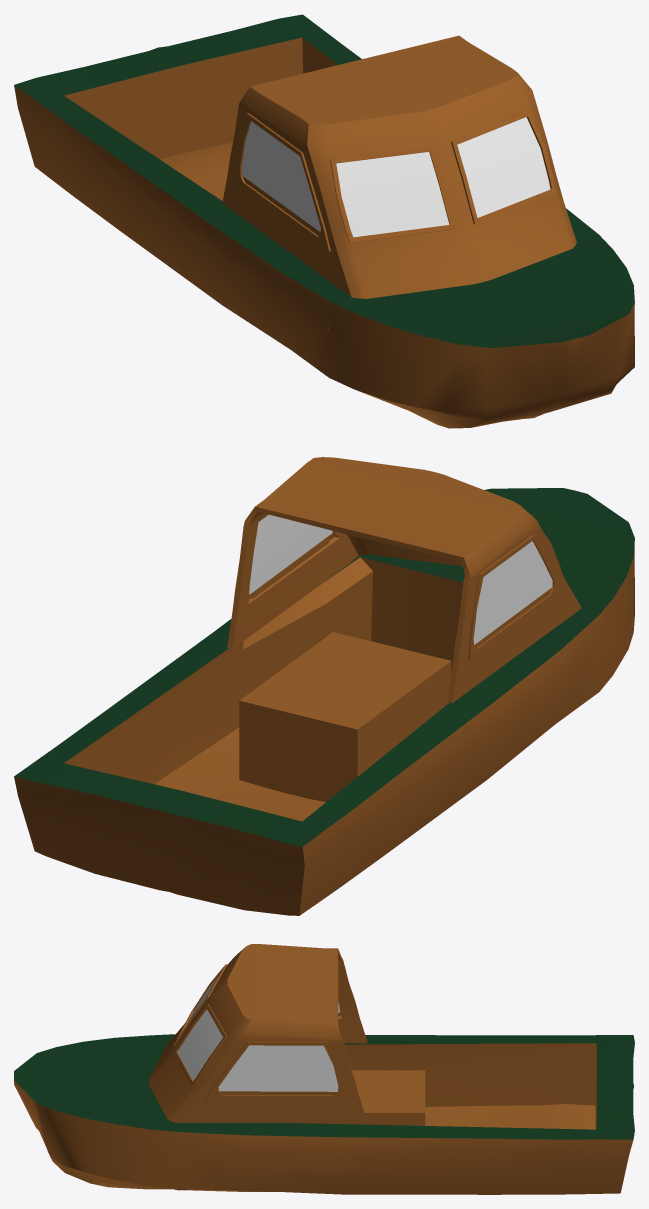
The model's file is GigboatDeep.fbx.
3 views of the same model, one above another, from view 1: azimuth 30°, elevation 25°; view 2: azimuth 150°, elevation 25°; view 3: azimuth 270°, elevation 25° (orthographic). The views are drawn at different scales.
Parts seen in each view (by area): view 1: Hull, Cabin; view 2: Hull, Cabin, Box; view 3: Hull, Cabin, Box.
Part boxes in pixels (<box>): Hull: <box>14,14,634,428</box>; Cabin: <box>222,35,576,298</box>; Hull: <box>14,488,634,915</box>; Cabin: <box>227,457,581,702</box>; Box: <box>239,632,451,801</box>; Hull: <box>14,1034,634,1194</box>; Cabin: <box>148,944,367,1122</box>; Box: <box>299,1070,425,1125</box>.
Size of the model in its own units: 284 by 238 by 713.
